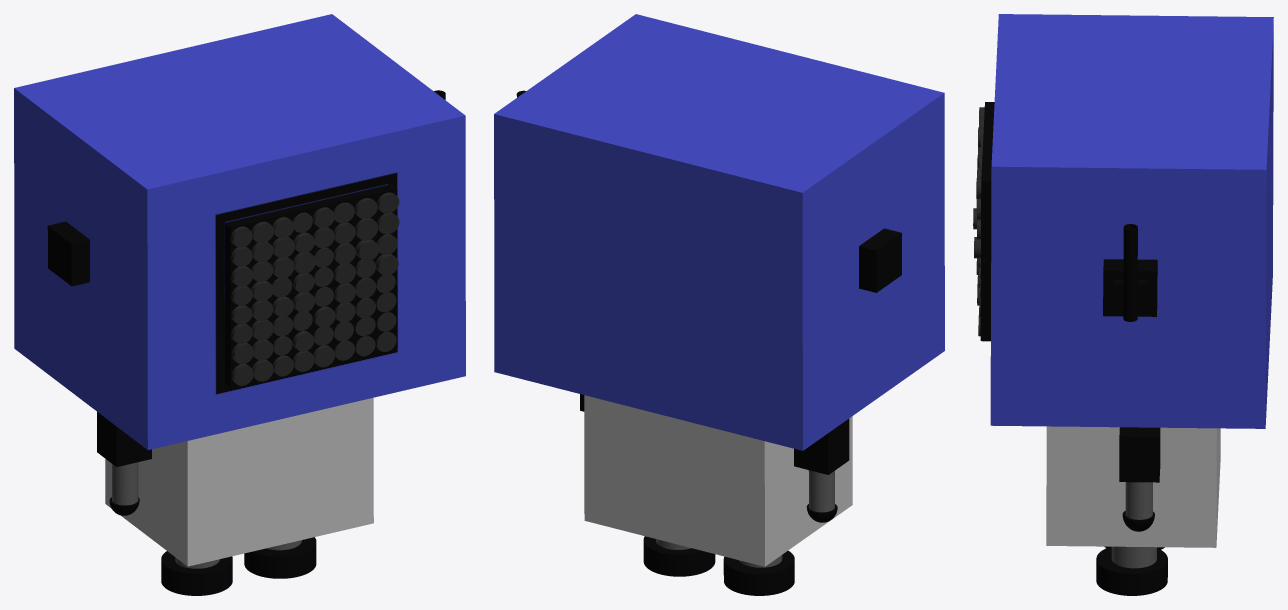
The model's file is robot.glb.
3 views of the same model, side by side, from view 1: azimuth 30°, elevation 25°; view 2: azimuth 150°, elevation 25°; view 3: azimuth 270°, elevation 25° (orthographic).
Visible parts, largest first — view 1: mesh_id1054, mesh_id1056, mesh_id1190, mesh_id1087, mesh_id1077, mesh_id1079, mesh_id1060, mesh_id1062; view 2: mesh_id1054, mesh_id1056, mesh_id1087, mesh_id1077, mesh_id1079, mesh_id1060, mesh_id1062; view 3: mesh_id1054, mesh_id1056, mesh_id1190, mesh_id1079, mesh_id1058, mesh_id1081, mesh_id1085, mesh_id1064, mesh_id1075, mesh_id1083.
Part boxes in pixels (<box>): mesh_id1054: <box>14,14,465,449</box>; mesh_id1056: <box>105,397,373,566</box>; mesh_id1190: <box>224,184,397,386</box>; mesh_id1087: <box>47,221,89,286</box>; mesh_id1077: <box>161,551,232,595</box>; mesh_id1079: <box>244,537,316,578</box>; mesh_id1060: <box>97,412,151,466</box>; mesh_id1062: <box>112,462,138,505</box>; mesh_id1054: <box>494,14,944,450</box>; mesh_id1056: <box>584,395,852,566</box>; mesh_id1087: <box>859,228,901,292</box>; mesh_id1077: <box>723,550,794,595</box>; mesh_id1079: <box>643,536,715,576</box>; mesh_id1060: <box>794,418,849,474</box>; mesh_id1062: <box>808,470,834,512</box>; mesh_id1054: <box>990,14,1273,428</box>; mesh_id1056: <box>1046,426,1220,547</box>; mesh_id1190: <box>980,102,994,341</box>; mesh_id1079: <box>1096,546,1167,595</box>; mesh_id1058: <box>1119,427,1160,482</box>; mesh_id1081: <box>1103,259,1157,316</box>; mesh_id1085: <box>1123,224,1137,321</box>; mesh_id1064: <box>1125,482,1152,519</box>; mesh_id1075: <box>1111,546,1156,568</box>; mesh_id1083: <box>1113,279,1148,316</box>.
Size of the model in its own units: 0.3874 by 0.46 by 0.2668.
Materials: 81 (81 with a texture image).
